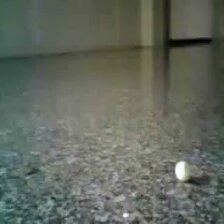w: (174, 161, 191, 179)
